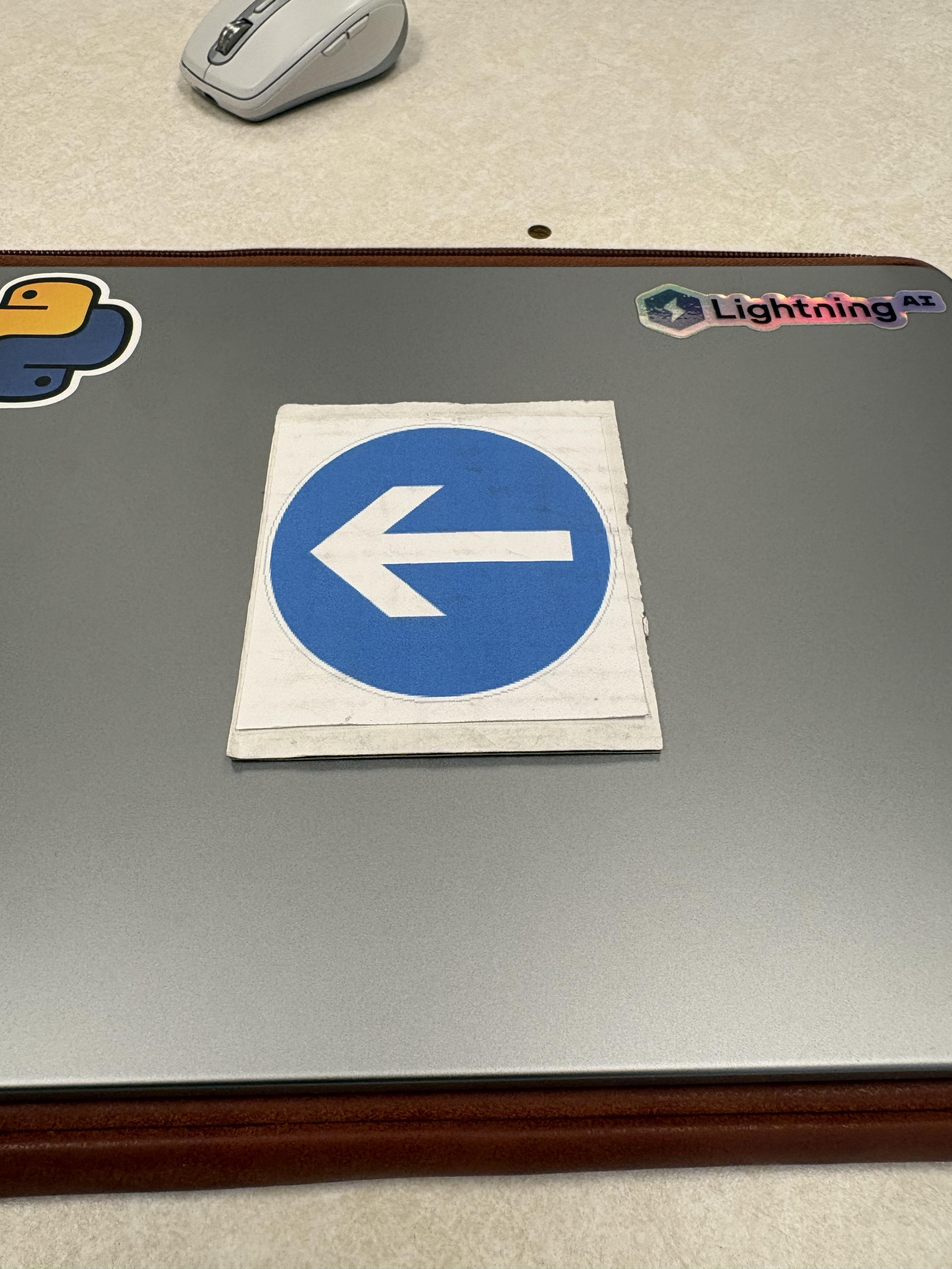Proceed Left: (173, 530, 505, 1009)
